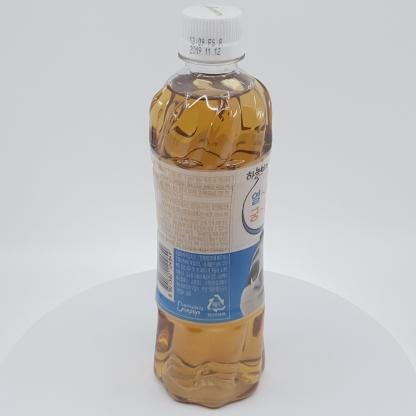------500ML: (149, 4, 272, 408)
